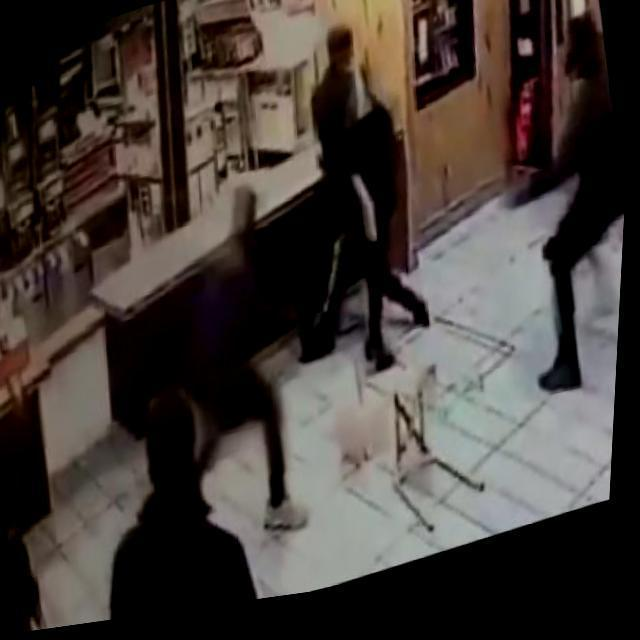fight: (280, 12, 434, 384)
